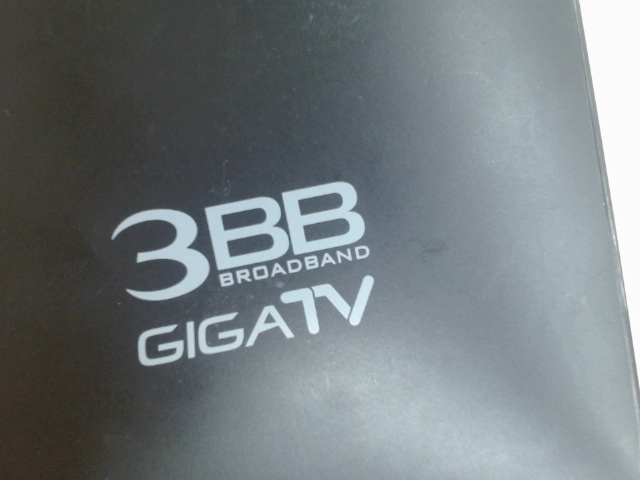AG_3BB: (101, 177, 383, 376)
